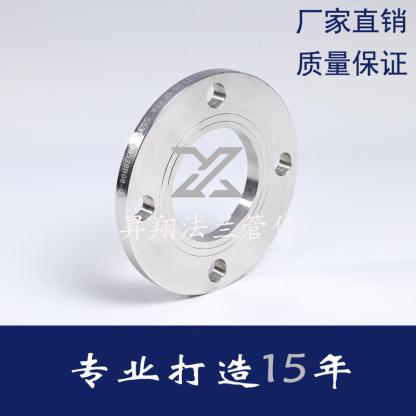FOD: (112, 63, 300, 300)
